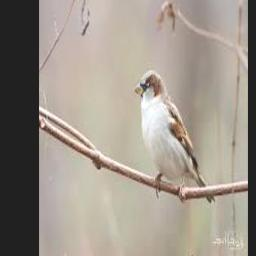Sparrow: (135, 70, 216, 203)
